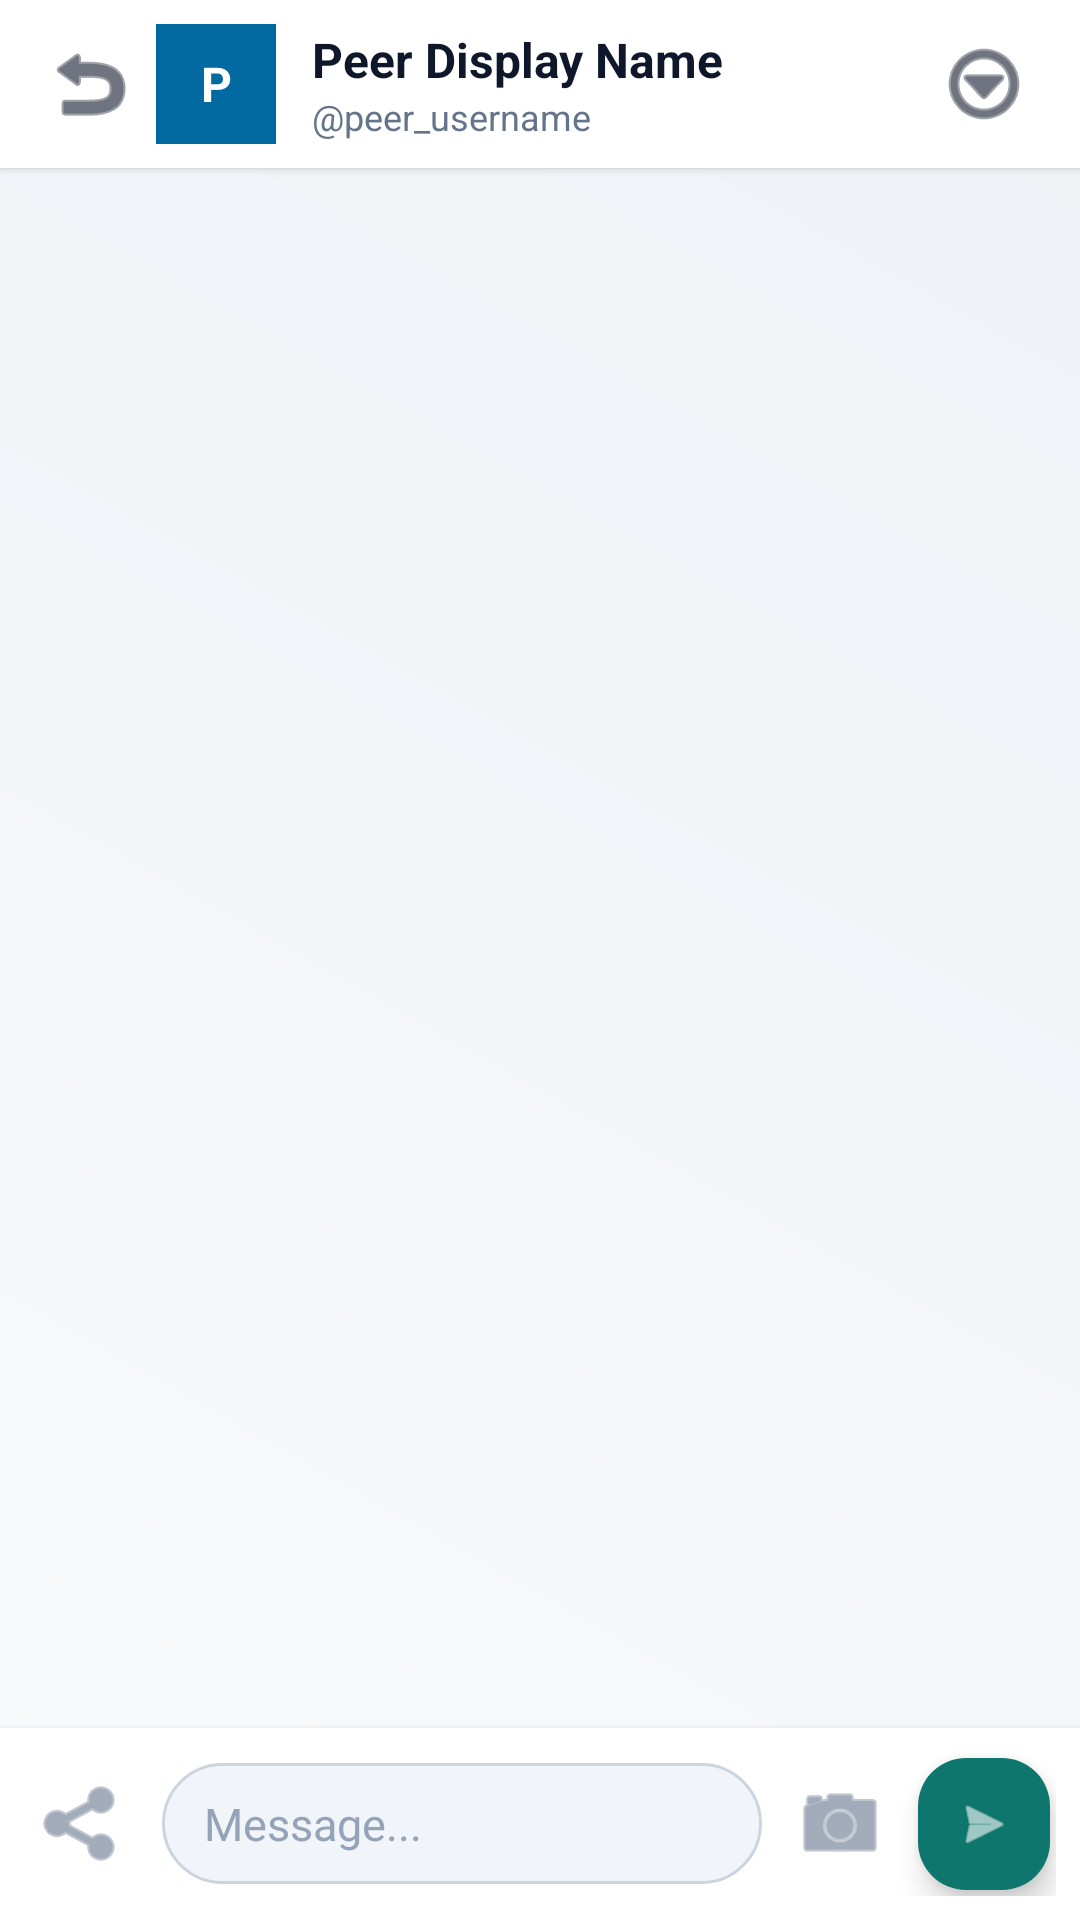

Screen size 1080px x 1920px. Icon name, then its center in pixels as point (x, y):
Back: point (91, 84)
Camera: point (840, 1822)
Menu: point (984, 84)
Send: point (985, 1827)
